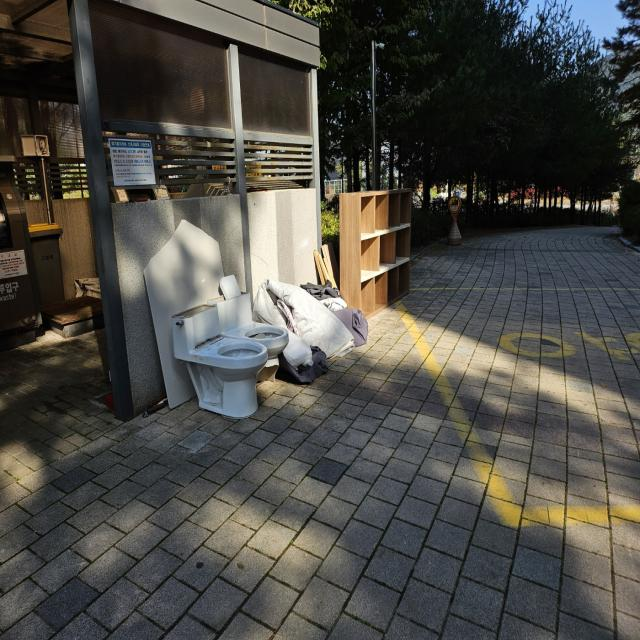CleanNet: (0, 153, 46, 342)
General Waste: (171, 182, 422, 420)
Large Waste Items: (173, 304, 265, 424), (339, 188, 415, 320), (206, 277, 288, 396), (252, 274, 368, 354), (310, 243, 342, 290)
